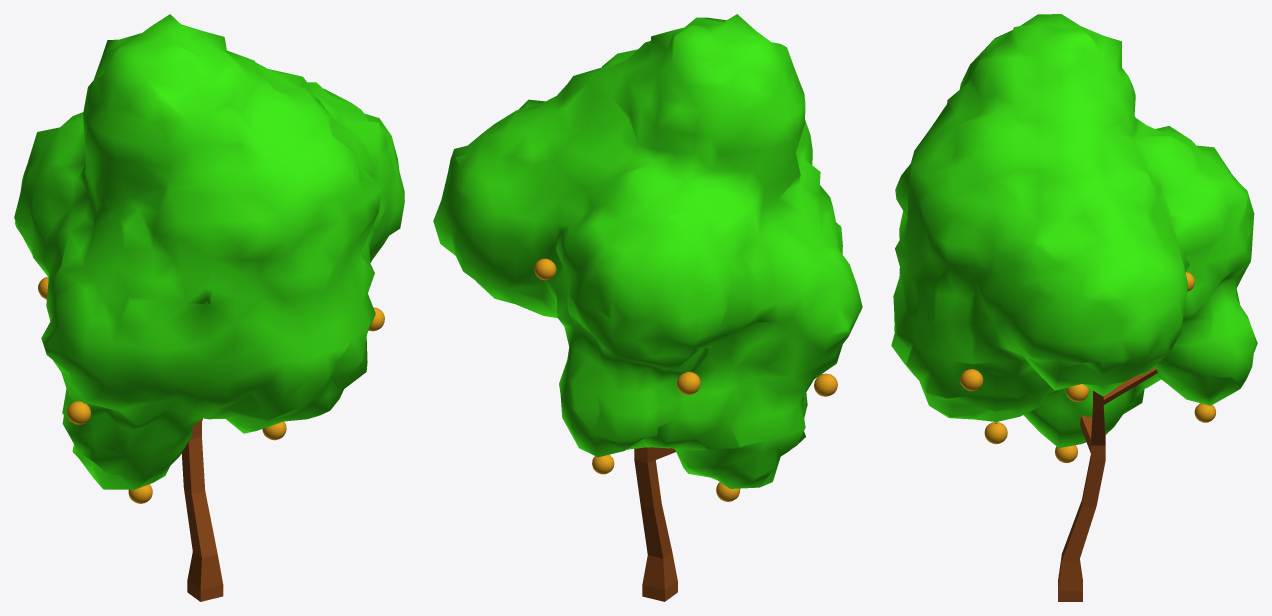
The model's file is SM_OrangeTree_001_LOD1.fbx.
3 renders of one model, left to right at view 1: azimuth 30°, elevation 25°; view 2: azimuth 150°, elevation 25°; view 3: azimuth 270°, elevation 25°, orthographic. The views are drawn at different scales.
Visible parts, largest first — view 1: OrangeTree_01; view 2: OrangeTree_01; view 3: OrangeTree_01.
Boxes of the visible parts, x1,y1,x2,y2 form: OrangeTree_01: (14,14,404,601); OrangeTree_01: (433,14,862,601); OrangeTree_01: (891,14,1257,601).
Size of the model in its own units: 186 by 276 by 167.
